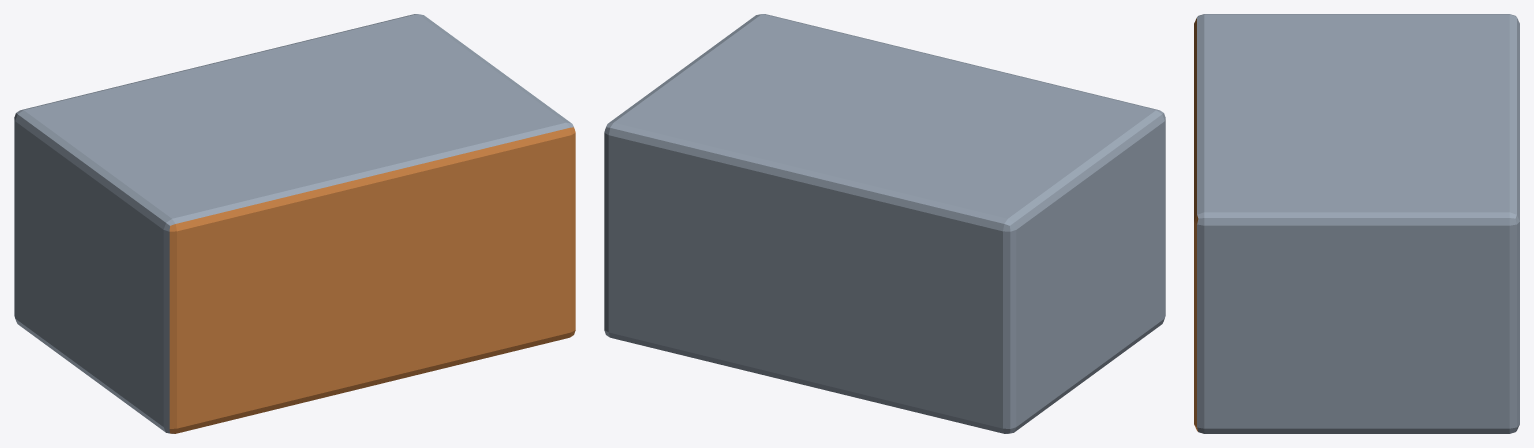
The model's file is technical_block_v001.glb.
3 views of the same model, side by side, from view 1: azimuth 30°, elevation 25°; view 2: azimuth 150°, elevation 25°; view 3: azimuth 270°, elevation 25° (orthographic). The views are drawn at different scales.
Parts seen in each view (by area): view 1: technical_block_v001; view 2: technical_block_v001; view 3: technical_block_v001.
Part boxes in pixels (left/top/right/bottom): technical_block_v001: left=14, top=14, right=575, bottom=433; technical_block_v001: left=604, top=14, right=1165, bottom=433; technical_block_v001: left=1194, top=14, right=1519, bottom=433.
Size of the model in its own units: 1.2 by 0.6 by 0.8.
